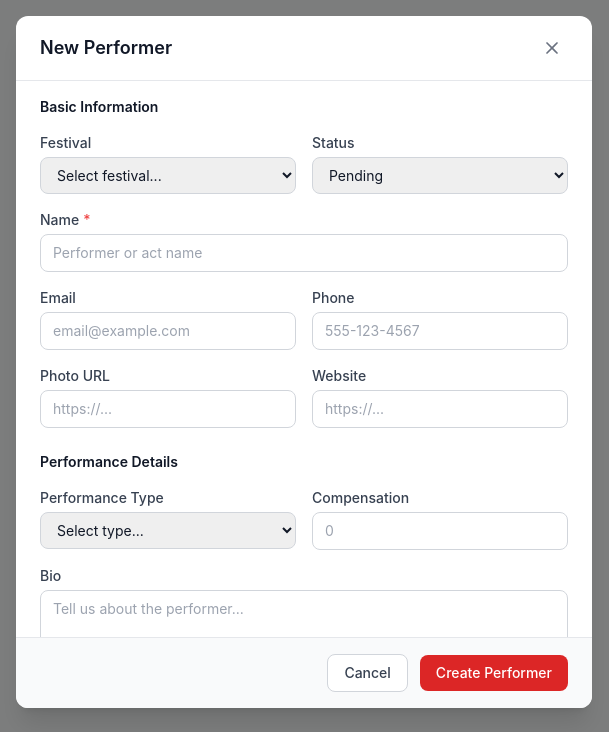
PerformerForm › form validation › requires name field
Click the button "Create Performer".
click(494, 673)  # box [420, 655, 568, 691]
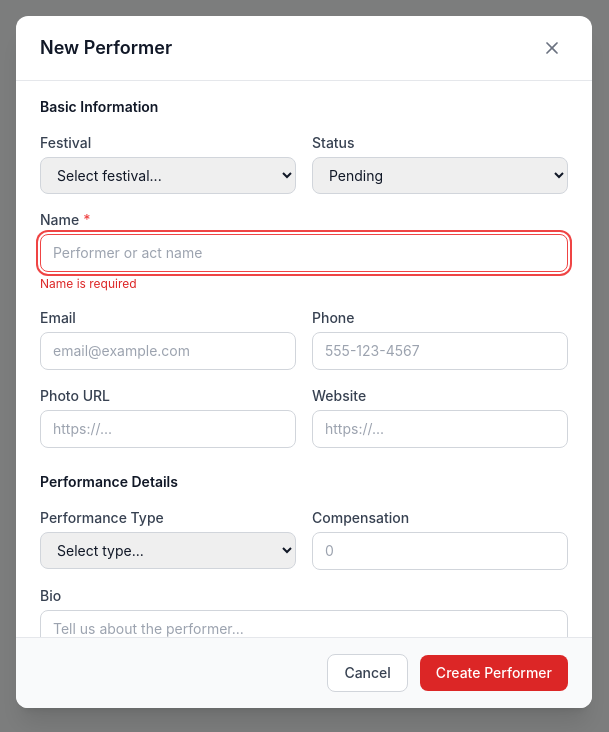
Expected: the text "Name is required" is shown, [40, 276, 137, 291]
